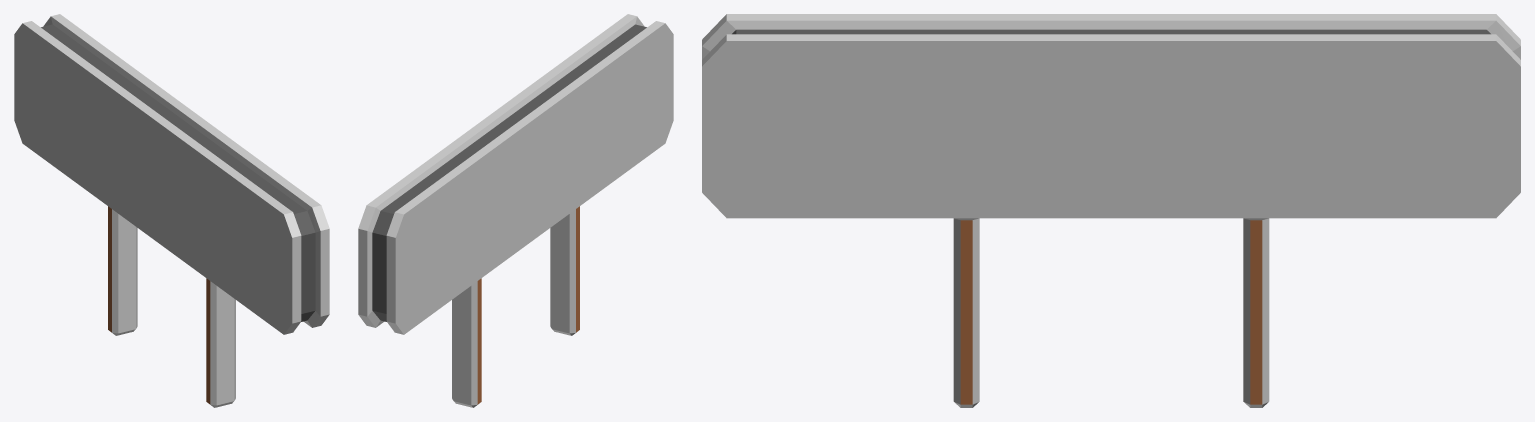
The model's file is MS_PARTITION.fbx.
3 renders of one model, left to right at view 1: azimuth 30°, elevation 25°; view 2: azimuth 150°, elevation 25°; view 3: azimuth 270°, elevation 25°, orthographic. The views are drawn at different scales.
Parts seen in each view (by area): view 1: MS_PARTITION; view 2: MS_PARTITION; view 3: MS_PARTITION.
Boxes of the visible parts, box(x1,y1,x2,y2) form: MS_PARTITION: box(14, 14, 329, 407); MS_PARTITION: box(358, 14, 673, 407); MS_PARTITION: box(702, 14, 1520, 407).
Bounding box in the file's own units: 0.1471 × 0.9503 × 1.88.
